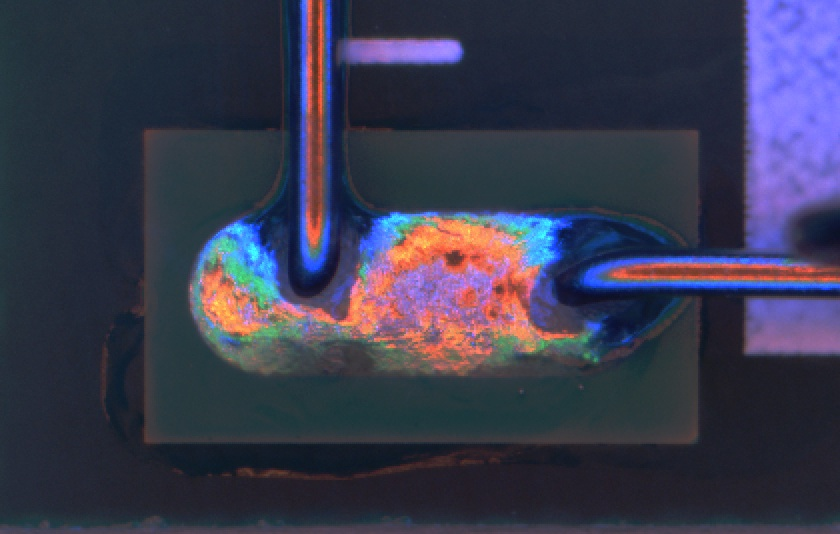spring: (269, 1, 363, 295), (534, 231, 840, 317)
spring_pin: (182, 206, 677, 364)
